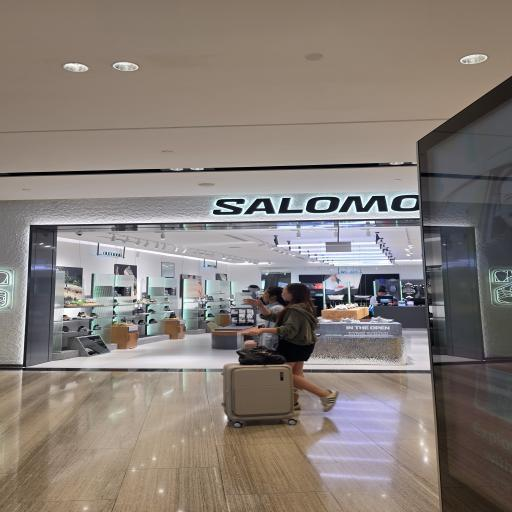person_left: (250, 281, 284, 343)
person_with_luggage_left: (216, 288, 332, 424)
